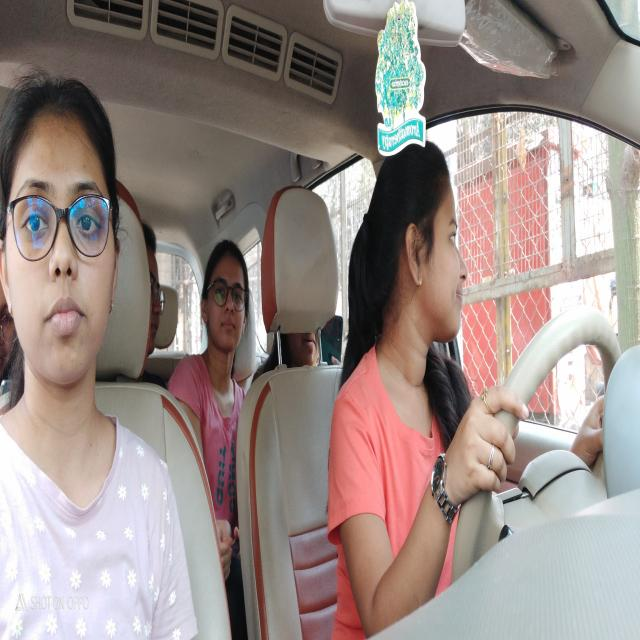LeftRight: (370, 123, 472, 384)
person: (0, 69, 122, 391), (198, 237, 250, 370), (150, 222, 167, 372)
